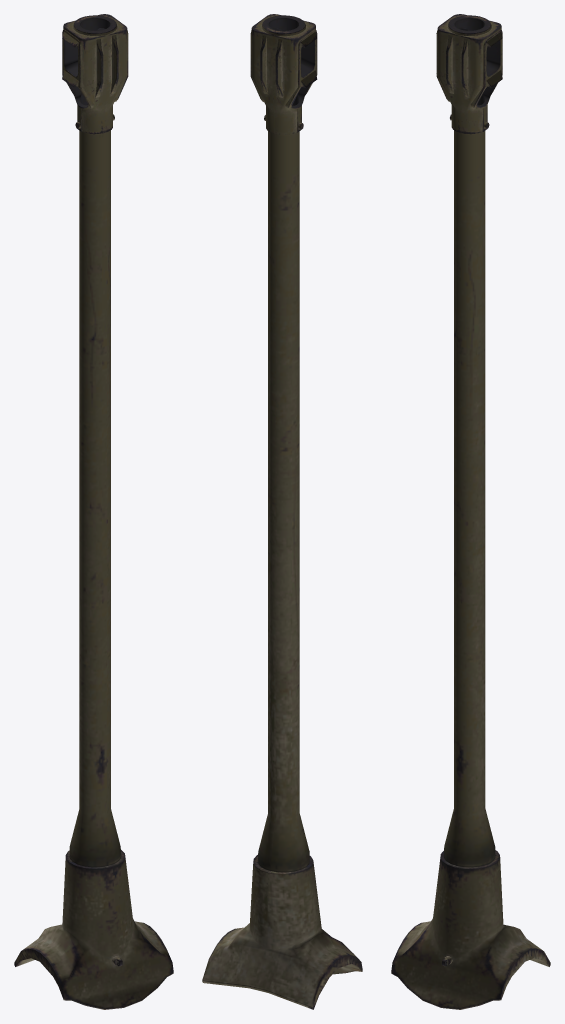
The model's file is Gun_04.glb.
3 views of the same model, side by side, from view 1: azimuth 30°, elevation 25°; view 2: azimuth 150°, elevation 25°; view 3: azimuth 330°, elevation 25° (orthographic).
Parts seen in each view (by area): view 1: set_0_group_0; view 2: set_0_group_0; view 3: set_0_group_0.
Boxes of the visible parts, <box> form: set_0_group_0: <box>14,14,173,1009</box>; set_0_group_0: <box>202,14,362,1009</box>; set_0_group_0: <box>391,14,550,1009</box>.
Bounding box in the file's own units: 0.6389 × 5.36 × 0.5601.
Materials: 1 (1 with a texture image).
